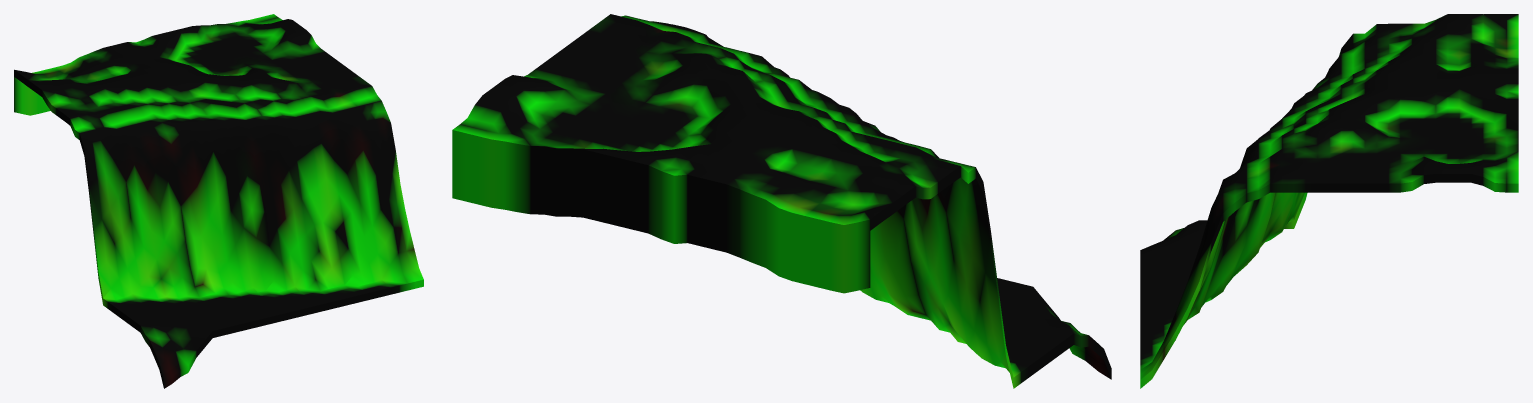
File: Terrain_00_02.fbx
3 renders of one model, left to right at view 1: azimuth 30°, elevation 25°; view 2: azimuth 150°, elevation 25°; view 3: azimuth 270°, elevation 25°, orthographic. The views are drawn at different scales.
Parts seen in each view (by area): view 1: Terrain_00_02_LOD0; view 2: Terrain_00_02_LOD0; view 3: Terrain_00_02_LOD0.
Boxes of the visible parts, left/top/right/bottom form: Terrain_00_02_LOD0: left=14, top=14, right=423, bottom=388; Terrain_00_02_LOD0: left=452, top=14, right=1111, bottom=388; Terrain_00_02_LOD0: left=1140, top=14, right=1518, bottom=388.
Size of what is drawn, in the model's own units: 384 by 296 by 384.
